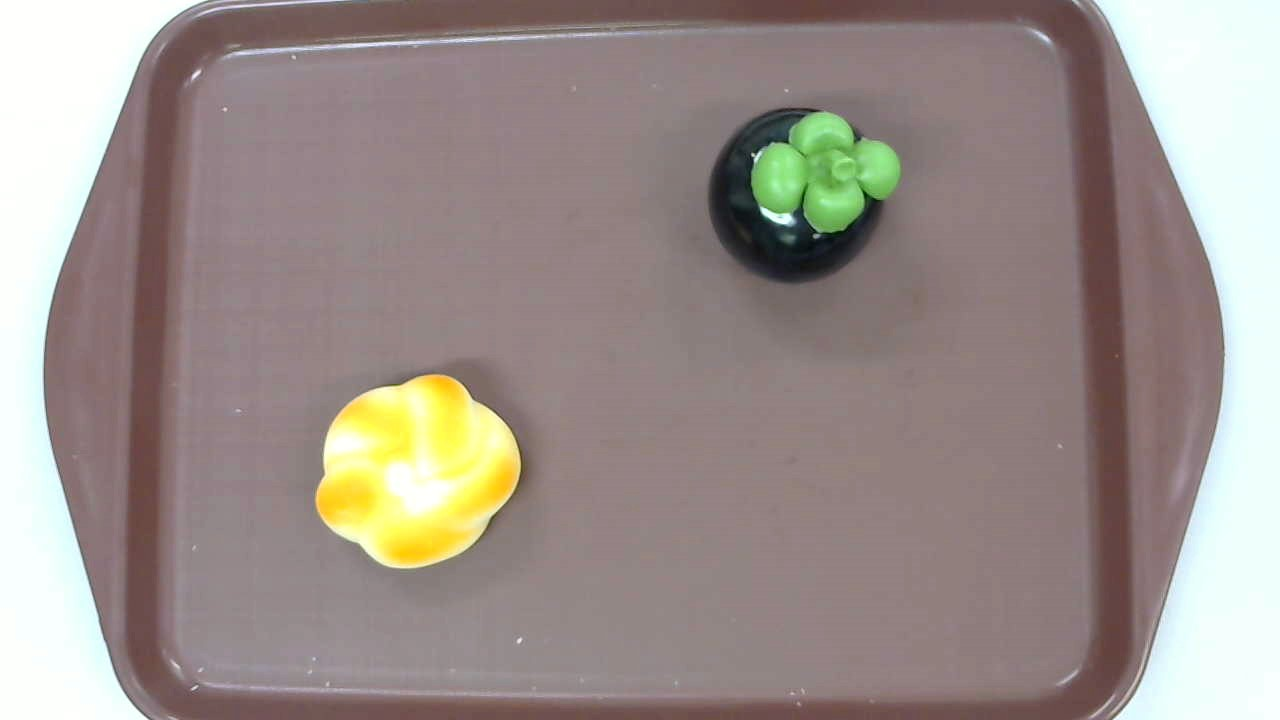mangosteen: (708, 107, 902, 285)
twist bread: (315, 374, 521, 571)
